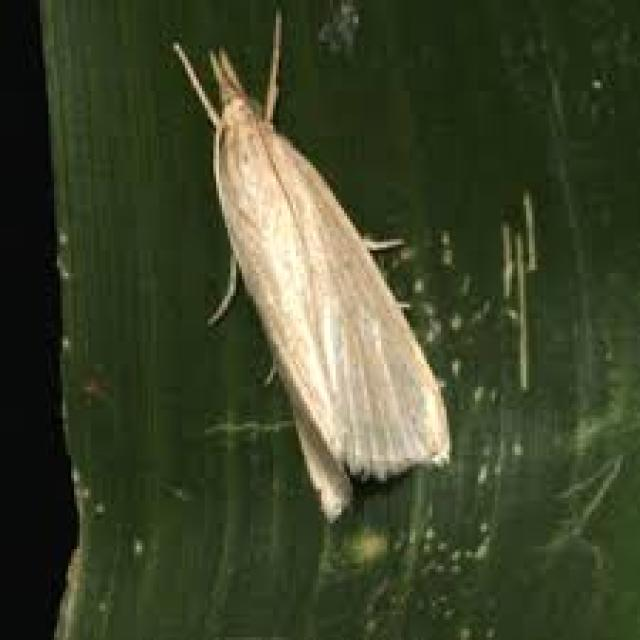yellow-stem-borer: (143, 25, 528, 562)
